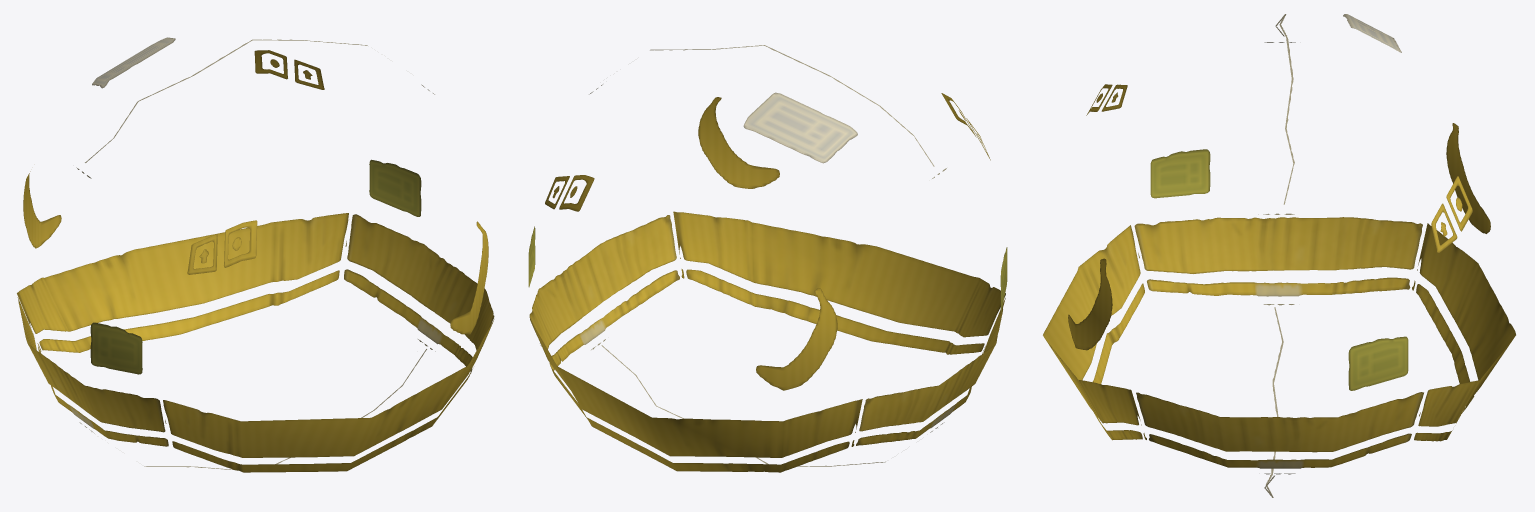
File: p_mesh_bananabox_pose0.fbx
The picture shows the model from 3 angles, left to right: view 1: azimuth 30°, elevation 25°; view 2: azimuth 150°, elevation 25°; view 3: azimuth 270°, elevation 25°; orthographic projection. The views are drawn at different scales.
Visible parts, largest first — view 1: obj_containers_vegboxbanana_pose0; view 2: obj_containers_vegboxbanana_pose0; view 3: obj_containers_vegboxbanana_pose0.
Part boxes in pixels (x1,y1,x2,y2): obj_containers_vegboxbanana_pose0: [17, 37, 494, 472]; obj_containers_vegboxbanana_pose0: [528, 45, 1007, 472]; obj_containers_vegboxbanana_pose0: [1043, 14, 1515, 497].
Bounding box in the file's own units: 4.18 × 4.21 × 4.21.
